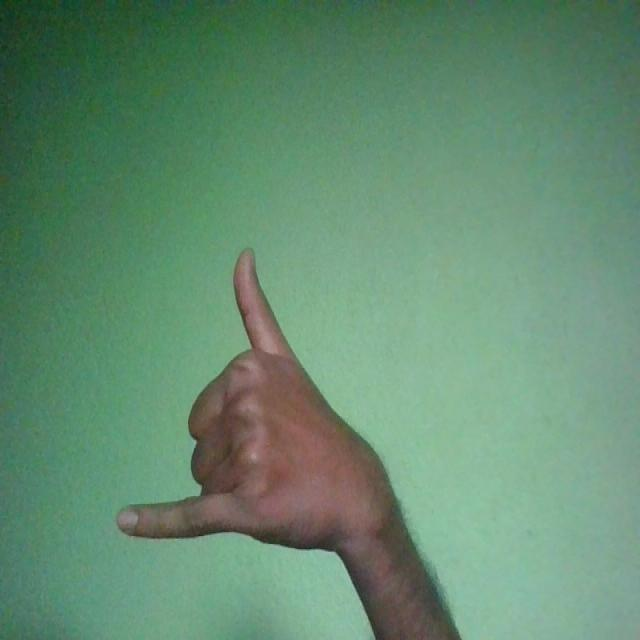Call Me: (117, 248, 410, 552)
